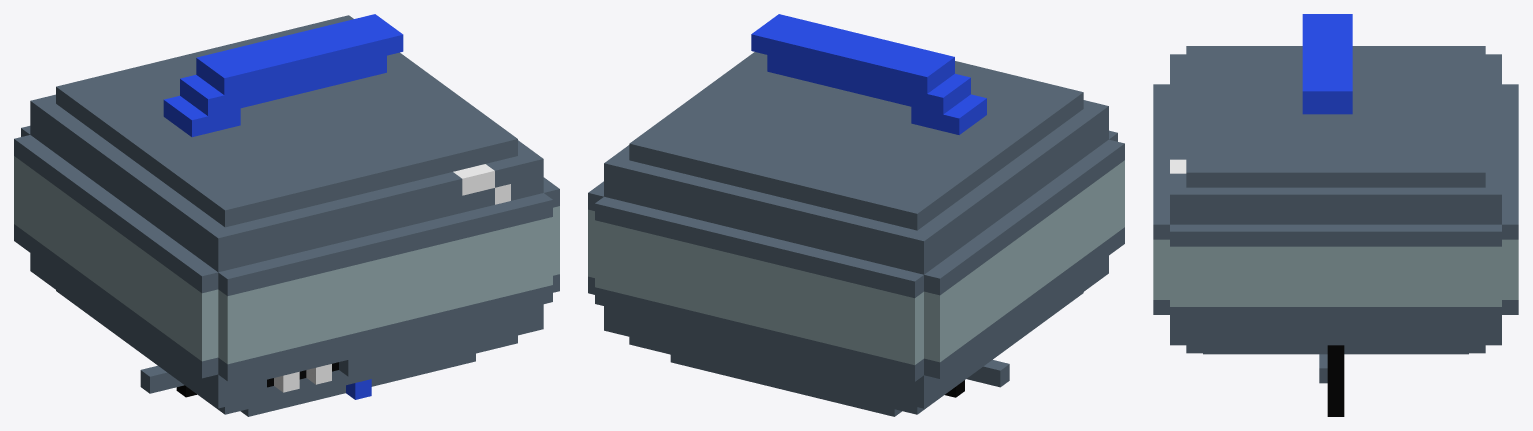
The model's file is curlingstone.glb.
3 views of the same model, side by side, from view 1: azimuth 30°, elevation 25°; view 2: azimuth 150°, elevation 25°; view 3: azimuth 270°, elevation 25° (orthographic). The views are drawn at different scales.
Visible parts, largest first — view 1: base, poigne, tooth, b3; view 2: base, poigne, b3; view 3: base, poigne, glasses.
Boxes of the visible parts, left/top/right/bottom form: base: left=14, top=15, right=559, bottom=416; poigne: left=163, top=14, right=403, bottom=137; tooth: left=274, top=364, right=331, bottom=392; b3: left=140, top=365, right=182, bottom=393; base: left=588, top=52, right=1124, bottom=416; poigne: left=751, top=14, right=986, bottom=134; b3: left=968, top=360, right=1009, bottom=387; base: left=1153, top=46, right=1518, bottom=354; poigne: left=1302, top=14, right=1352, bottom=114; glasses: left=1327, top=345, right=1344, bottom=416.
Size of the model in its own units: 22 by 20 by 22.
14 materials, 14 textured.
